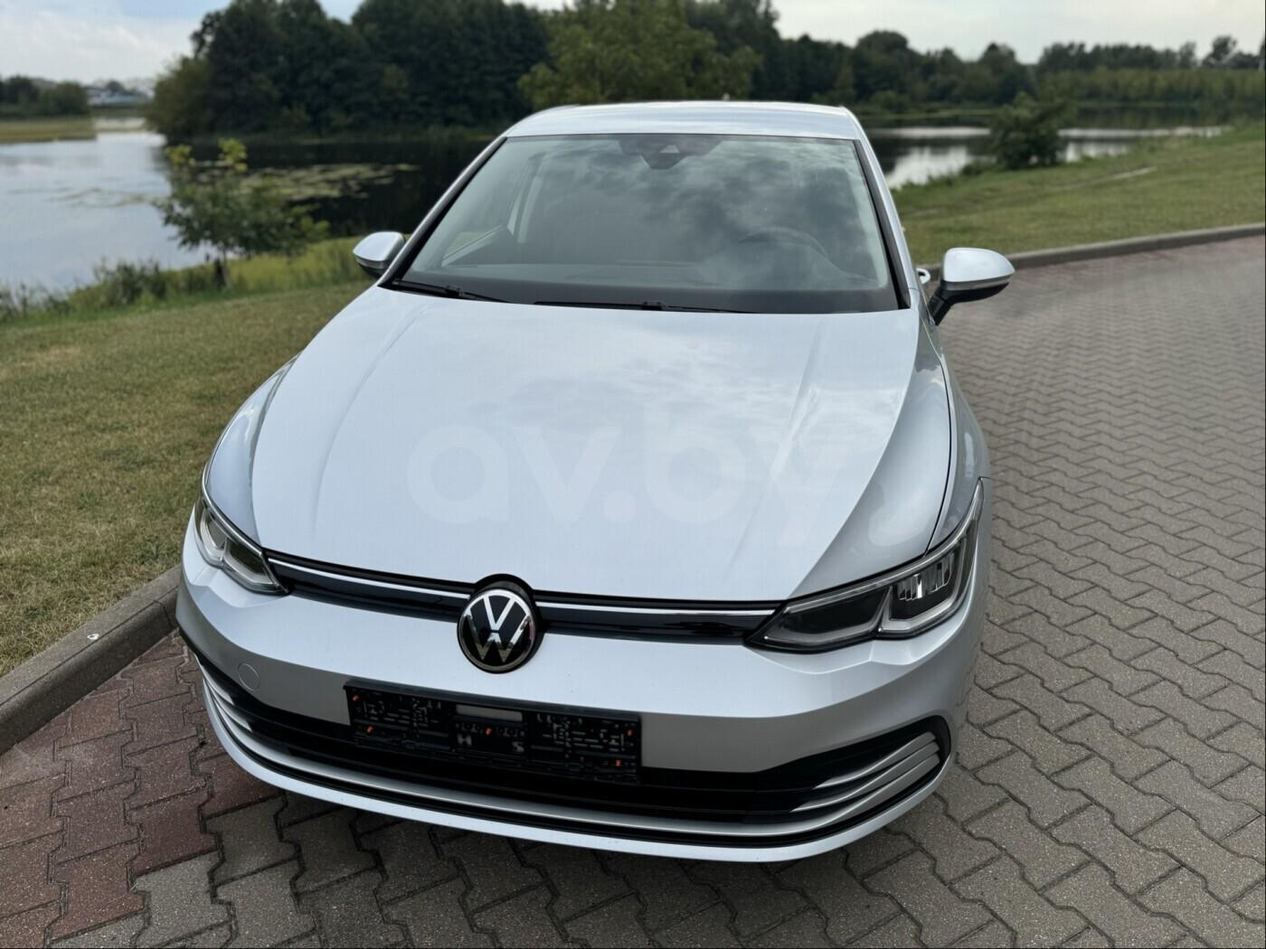Golf_2019: (178, 92, 1014, 873)
